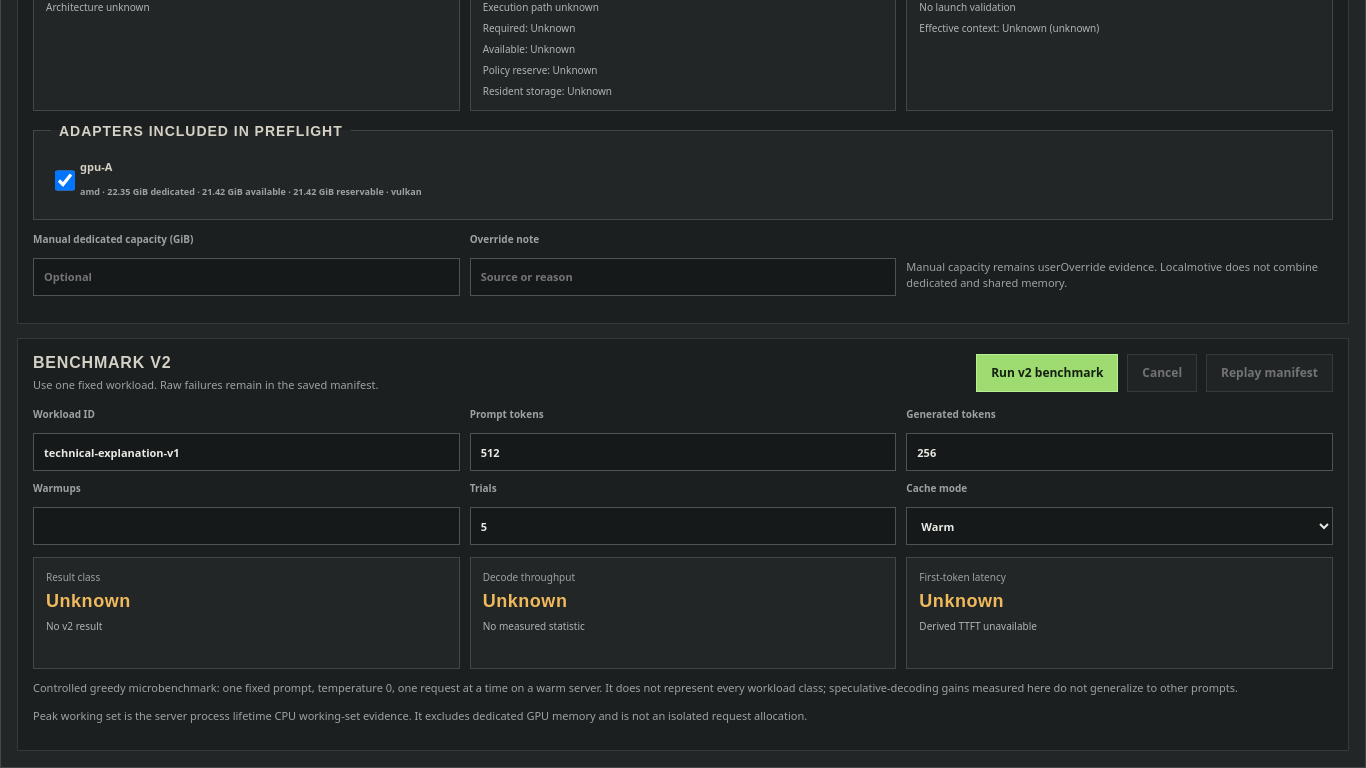
Scenario: benchmark workload editing › keeps a cleared Benchmark warmups field blank
The image size is (1366, 768).
(page scrolled)
Check: the button "Run v2 benchmark" is enabled, box [976, 354, 1118, 392]
Clear the field labelled "Warmups" at (246, 526), box [33, 507, 460, 545]
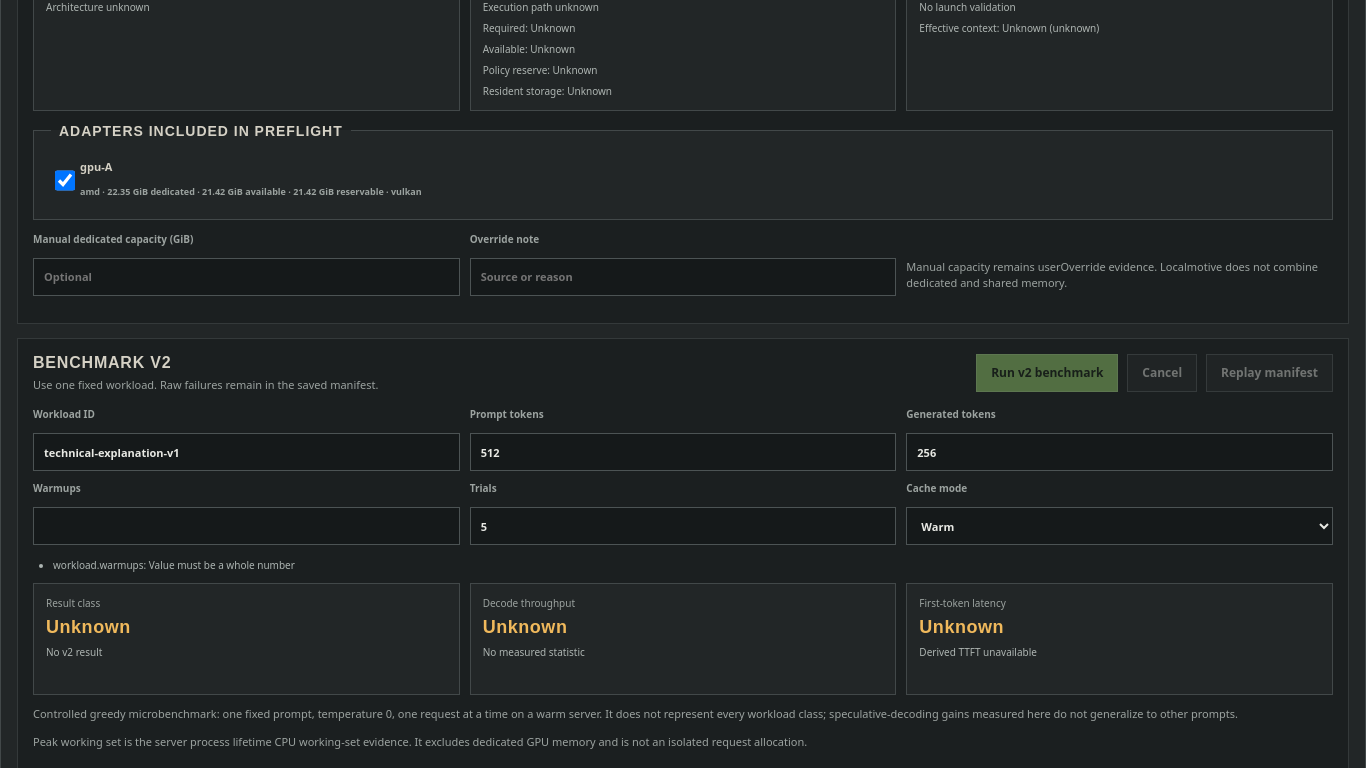
Check: the button "Run v2 benchmark" is disabled, box [976, 354, 1118, 392]
